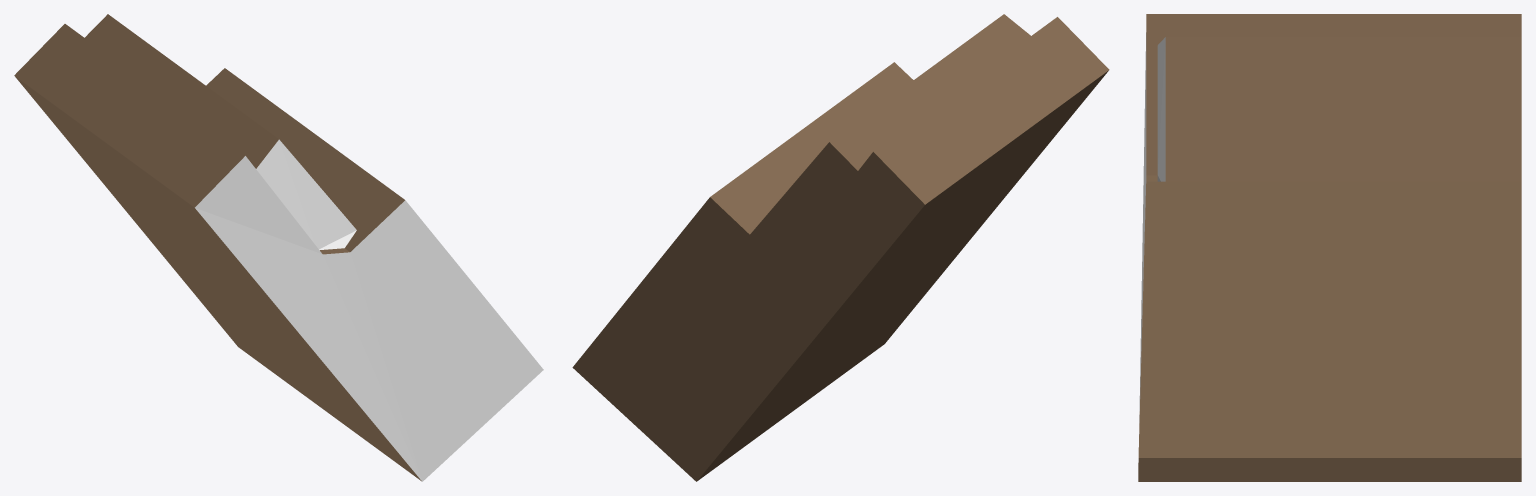
Rendered from Groupe9951523.obj.
The picture shows the model from 3 angles, left to right: view 1: azimuth 30°, elevation 25°; view 2: azimuth 150°, elevation 25°; view 3: azimuth 270°, elevation 25°; orthographic projection. The views are drawn at different scales.
Visible parts, largest first — view 1: City_Groupe9951523; view 2: City_Groupe9951523; view 3: City_Groupe9951523.
Boxes of the visible parts, bbox=[...] form: City_Groupe9951523: bbox=[14, 14, 543, 481]; City_Groupe9951523: bbox=[572, 14, 1109, 481]; City_Groupe9951523: bbox=[1138, 14, 1521, 481].
Bounding box in the file's own units: 1567 × 1585 × 1449.
